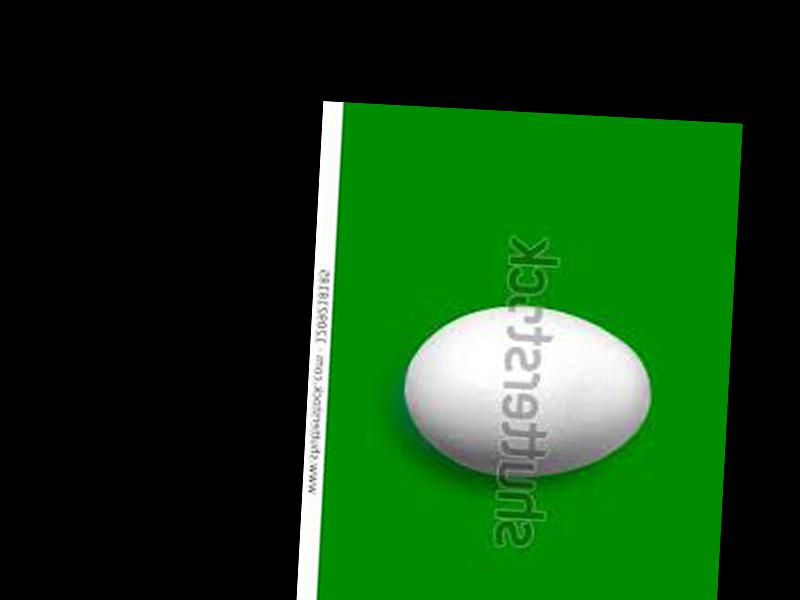Eggs: (402, 301, 655, 485)
